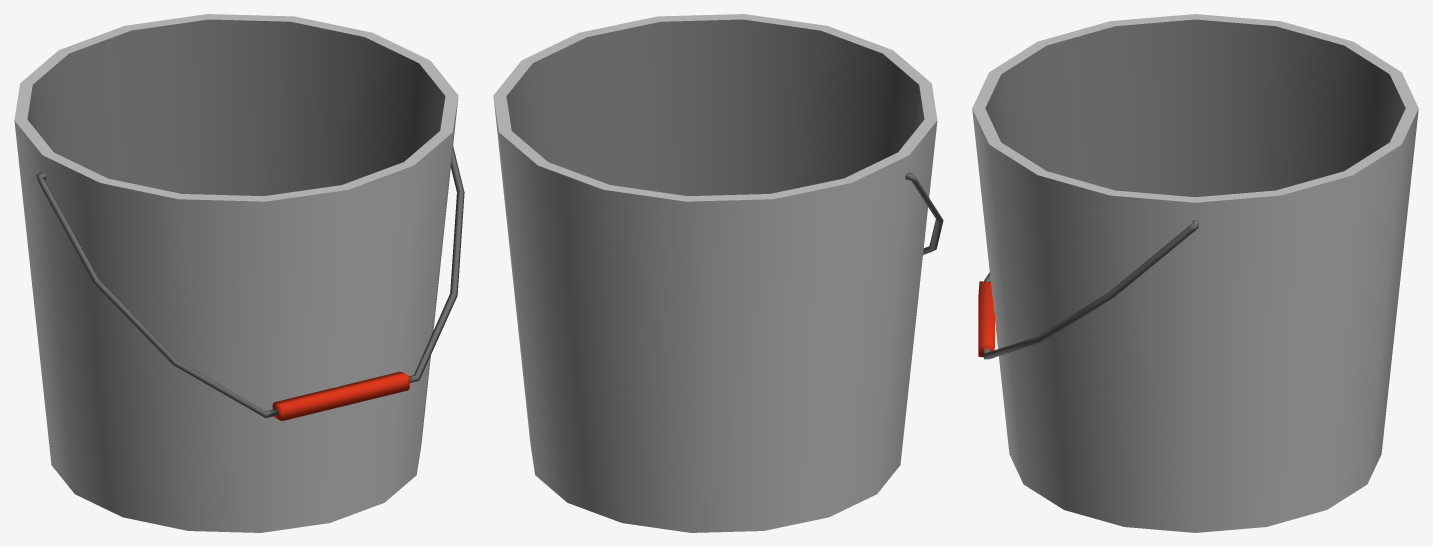
Rendered from bucket.glb.
The picture shows the model from 3 angles, left to right: view 1: azimuth 30°, elevation 25°; view 2: azimuth 150°, elevation 25°; view 3: azimuth 270°, elevation 25°; orthographic projection.
Visible parts, largest first — view 1: bucket; view 2: bucket; view 3: bucket.
Boxes of the visible parts, bbox=[...] form: bucket: bbox=[14, 14, 464, 532]; bucket: bbox=[493, 14, 943, 532]; bucket: bbox=[972, 14, 1418, 532].
Size of the model in its own units: 0.4821 by 0.4 by 0.468.
1 material, 1 textured.
